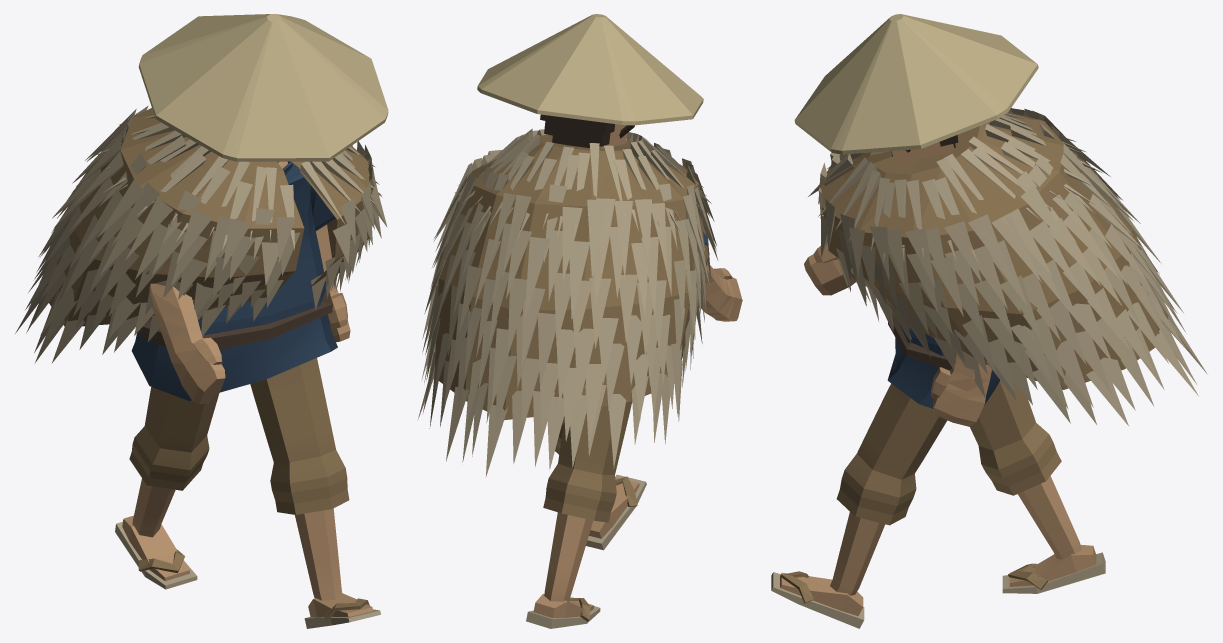
The model's file is farmer-363820__walk0.glb.
3 renders of one model, left to right at view 1: azimuth 30°, elevation 25°; view 2: azimuth 150°, elevation 25°; view 3: azimuth 270°, elevation 25°, orthographic. The views are drawn at different scales.
Visible parts, largest first — view 1: farmer-363820__walk0; view 2: farmer-363820__walk0; view 3: farmer-363820__walk0.
Part boxes in pixels (bbox=[...]): farmer-363820__walk0: bbox=[15, 14, 388, 628]; farmer-363820__walk0: bbox=[417, 14, 742, 628]; farmer-363820__walk0: bbox=[771, 14, 1207, 628].
Bounding box in the file's own units: 0.8929 × 1.81 × 1.21.
